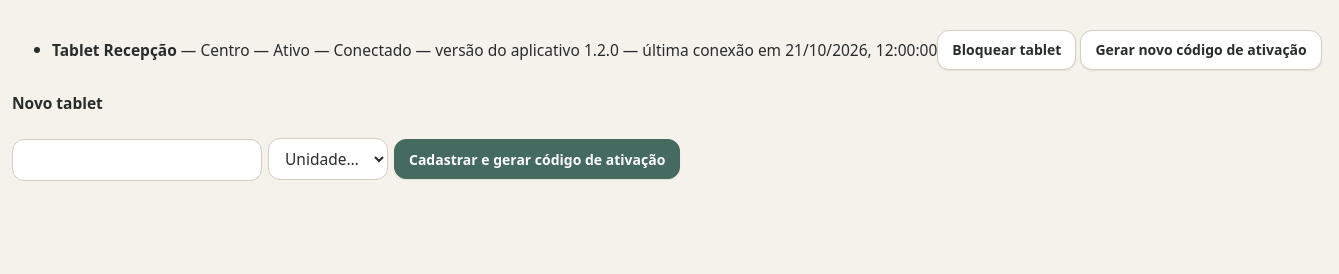
Test: DevicesTab › mostra o código de ativação uma vez e permite ocultá-lo
The width and height of the screenshot is (1339, 274).
expect the text "Tablet Recepção" is shown: met, box [52,38,177,60]
Type "Novo" into the field named "Nome do tablet".
click(137, 160); type("Novo")  # box [12,139,262,181]
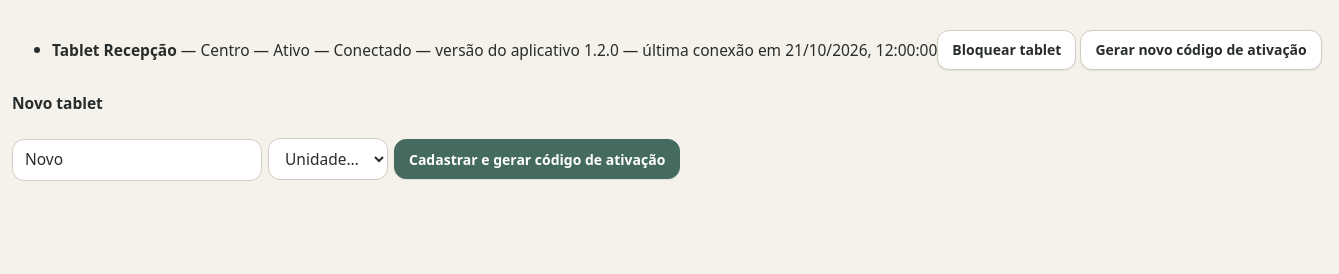
Select "Centro" in the dropdown named "Unidade do tablet" at (328, 159), box [268,138,388,180]
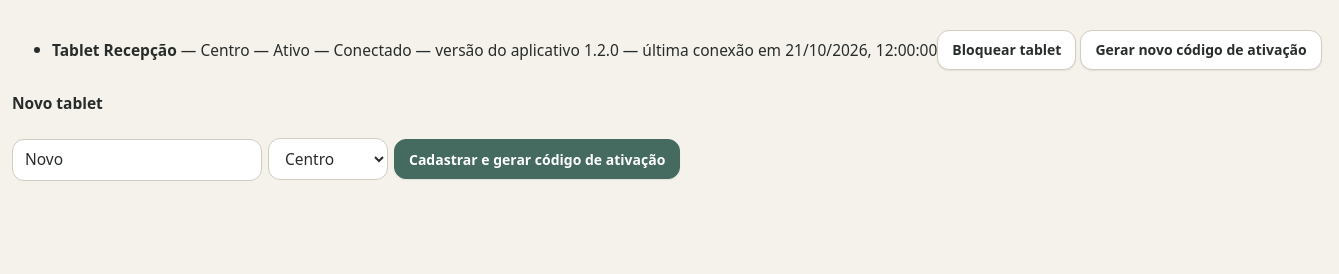
Click the button "Cadastrar e gerar código de ativação".
click(537, 160)  # box [394,140,680,180]
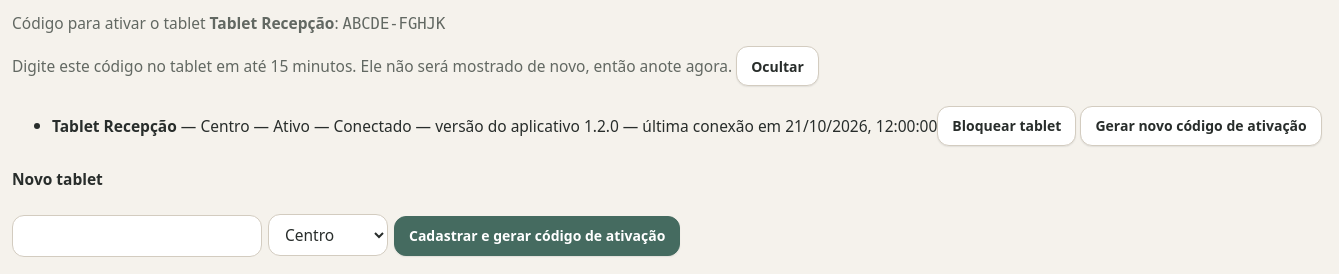
expect the text named "Código de ativação" reads "ABCDE-FGHJK": met, box [343,15,445,33]
Click the button "Ocultar".
click(778, 66)  # box [736,46,819,86]
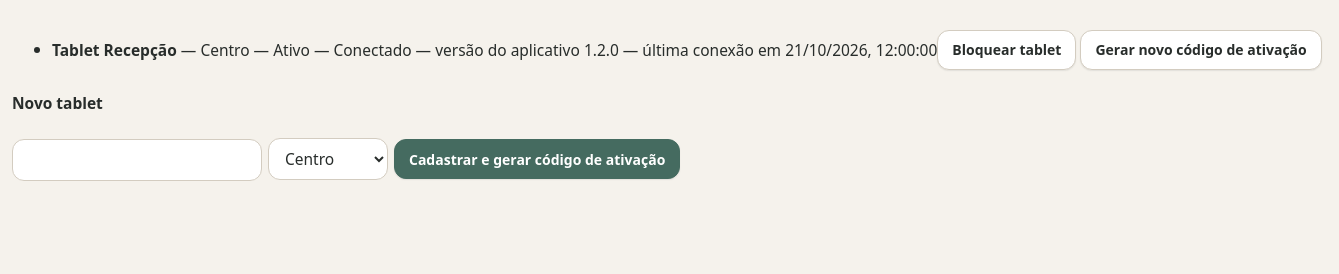
expect the text "ABCDE-FGHJK" is gone: met
